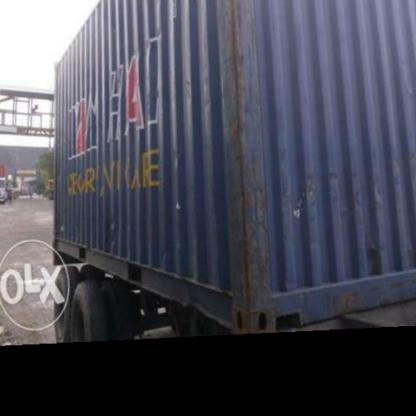Damage: (206, 0, 277, 331)
